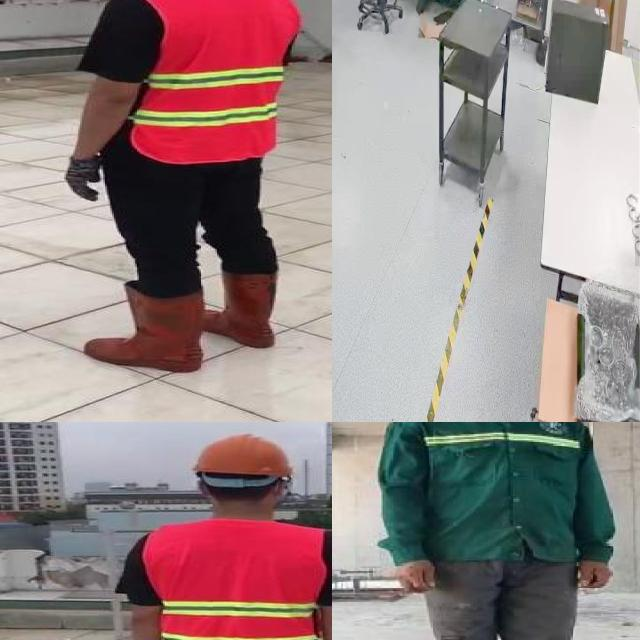boots: (87, 282, 208, 374), (202, 271, 284, 350)
hand_glove: (63, 157, 104, 203), (633, 194, 640, 227)
hand_noglove: (387, 557, 440, 601), (570, 550, 616, 594)
head_helmet: (192, 432, 294, 478)
person: (63, 0, 308, 375), (372, 422, 631, 640), (118, 427, 332, 640)
vest: (103, 0, 304, 162), (141, 520, 326, 640)
